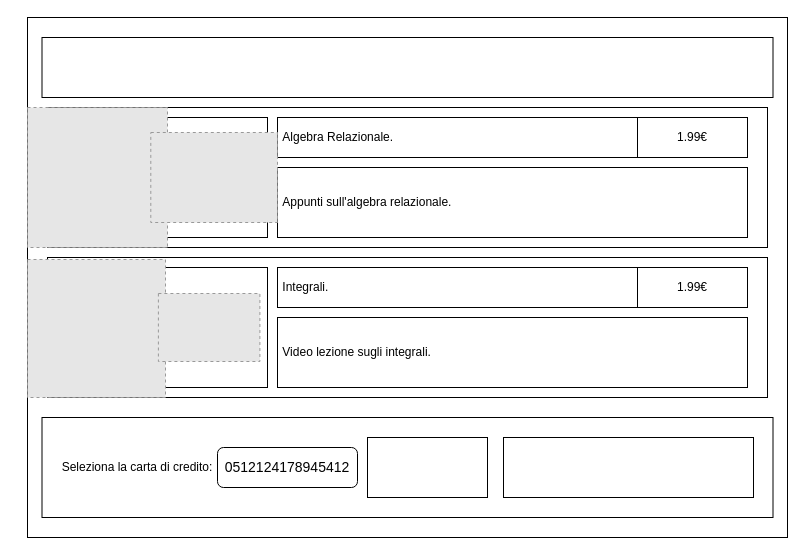
Image size: 805x555. Some labels were removed from this diagram. Grey dashed boxes stand in for pictures. The centre of each missing label's shape, as x and y in pixels:
"ACQUISTA" goes at [628,467].
"CARRELLO" goes at [407,67].
"Totale: 3.98 €" goes at [427,467].
